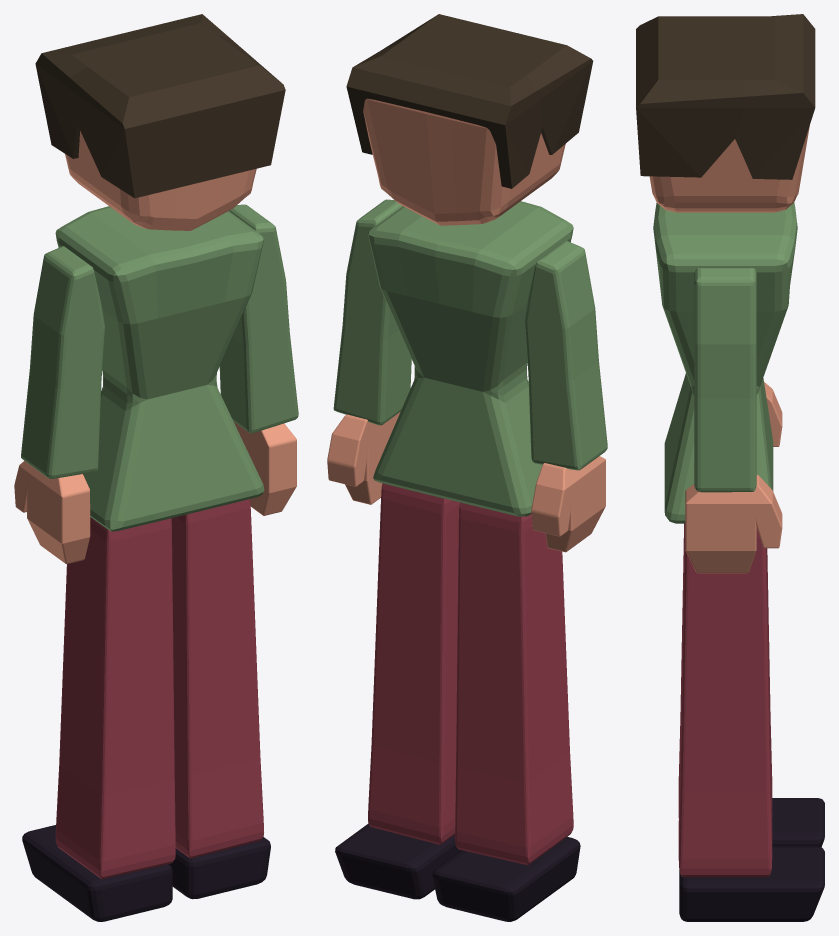
The picture shows the model from 3 angles, left to right: view 1: azimuth 30°, elevation 25°; view 2: azimuth 150°, elevation 25°; view 3: azimuth 270°, elevation 25°; orthographic projection.
Visible parts, largest first — view 1: E5_Pelo; view 2: E5_Pelo; view 3: E5_Pelo.
Boxes of the visible parts, x1,y1,x2,y2 form: E5_Pelo: (14,14,298,921); E5_Pelo: (327,14,607,921); E5_Pelo: (636,14,824,921).
Size of the model in its own units: 210 by 665 by 136.
